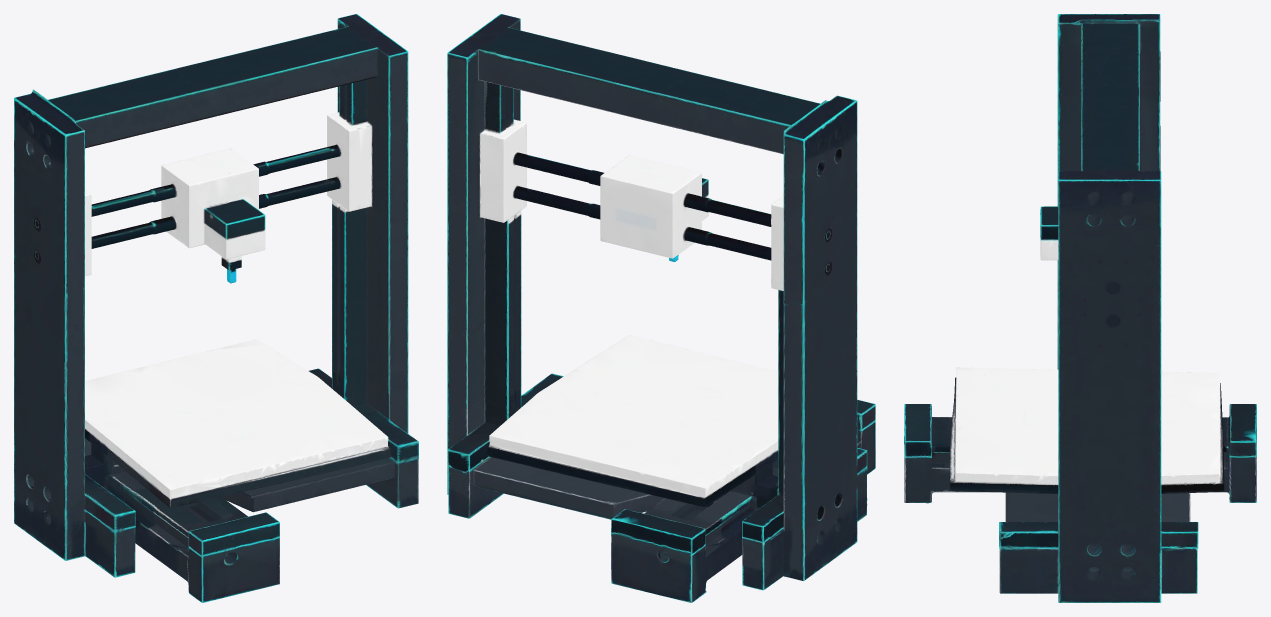
The model's file is printer.optimized.glb.
3 renders of one model, left to right at view 1: azimuth 30°, elevation 25°; view 2: azimuth 150°, elevation 25°; view 3: azimuth 270°, elevation 25°, orthographic. The views are drawn at different scales.
Bounding box in the file's own units: 1.59 × 1.9 × 1.42.
1 material, 1 textured.
